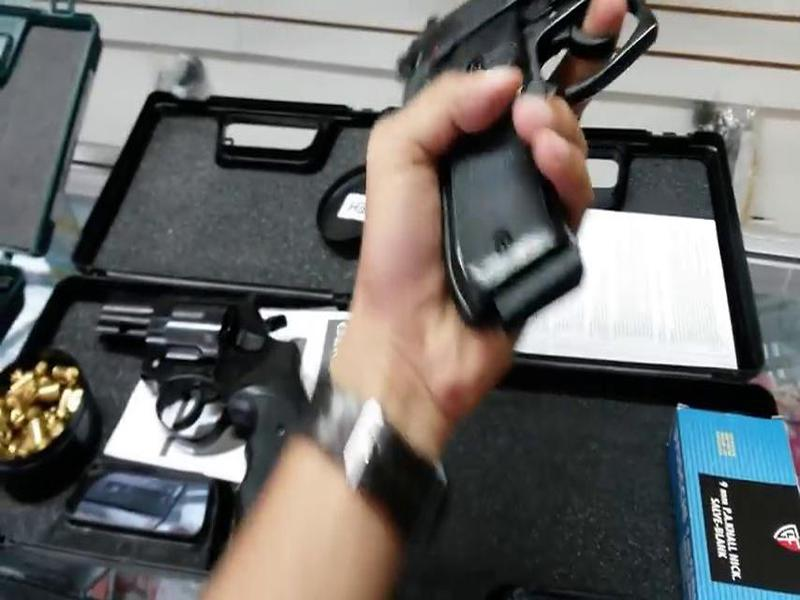Pistola: (385, 1, 691, 330)
Revolver: (97, 276, 334, 533)
